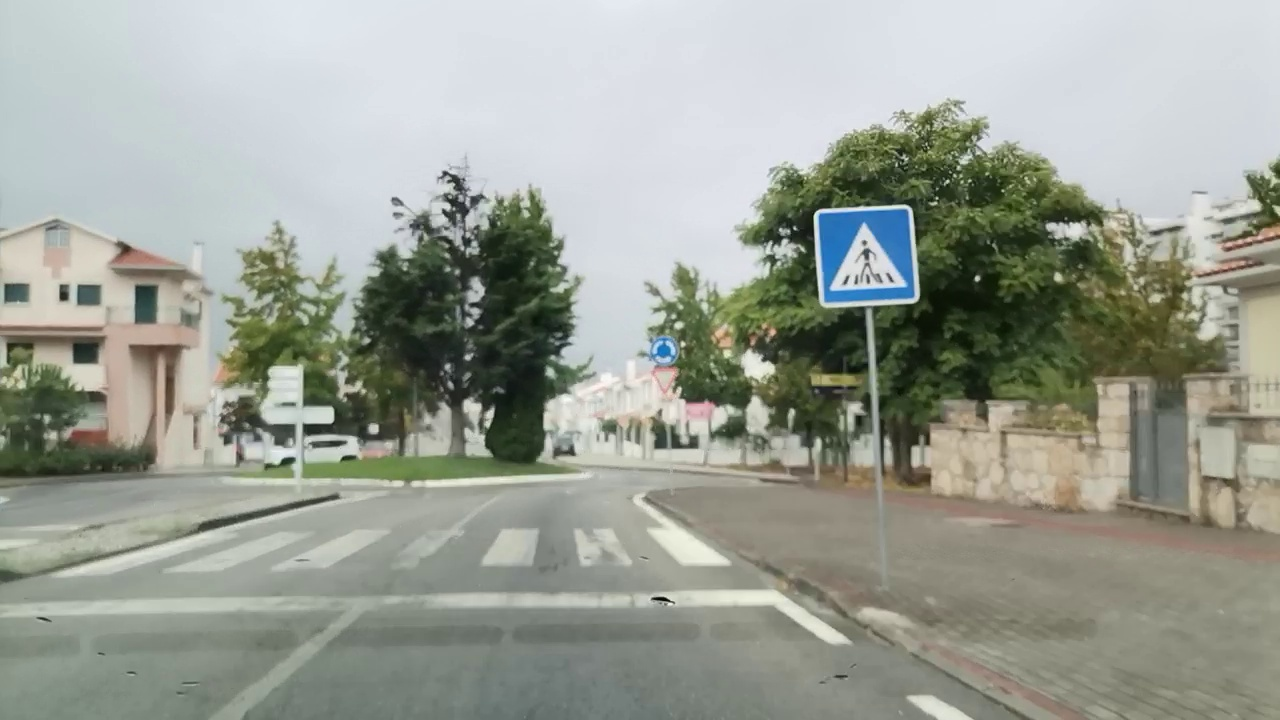Stairs: (58, 527, 730, 573)
